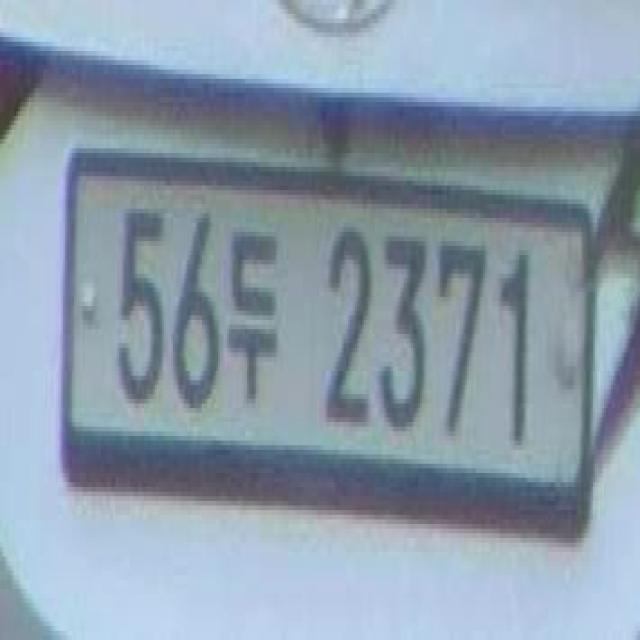illegal_plate: (61, 141, 604, 552)
